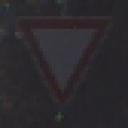preferencia: (13, 11, 118, 112)
